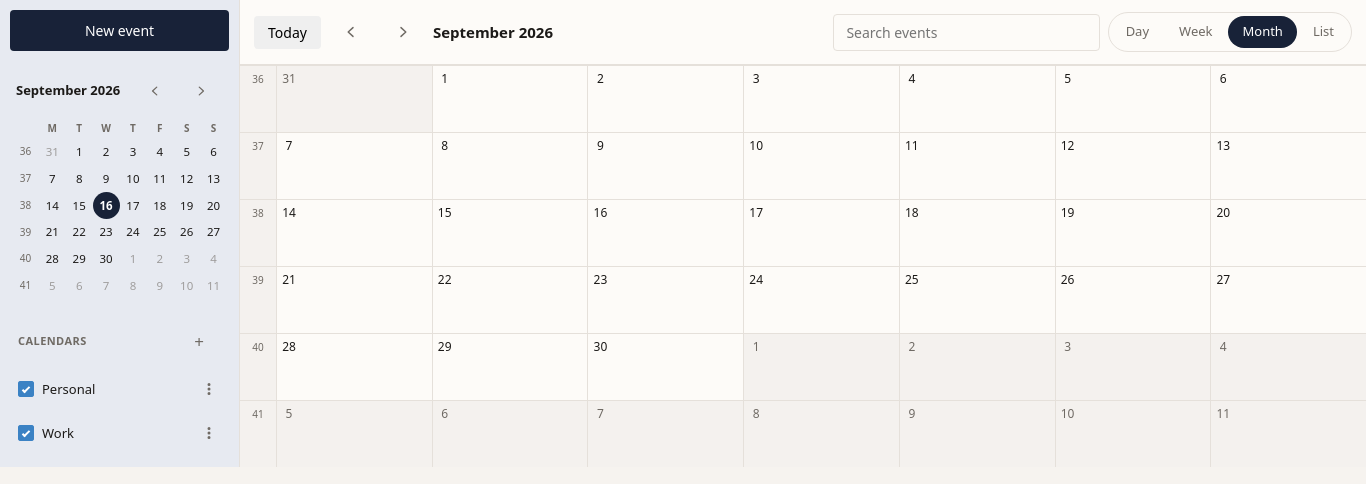
Test: CalendarLayout — navigating and loading › lands the keyboard on the anchor after a month step
Click the button named "Next period" at [403, 32], box x1=381 y1=10 x2=425 y2=54
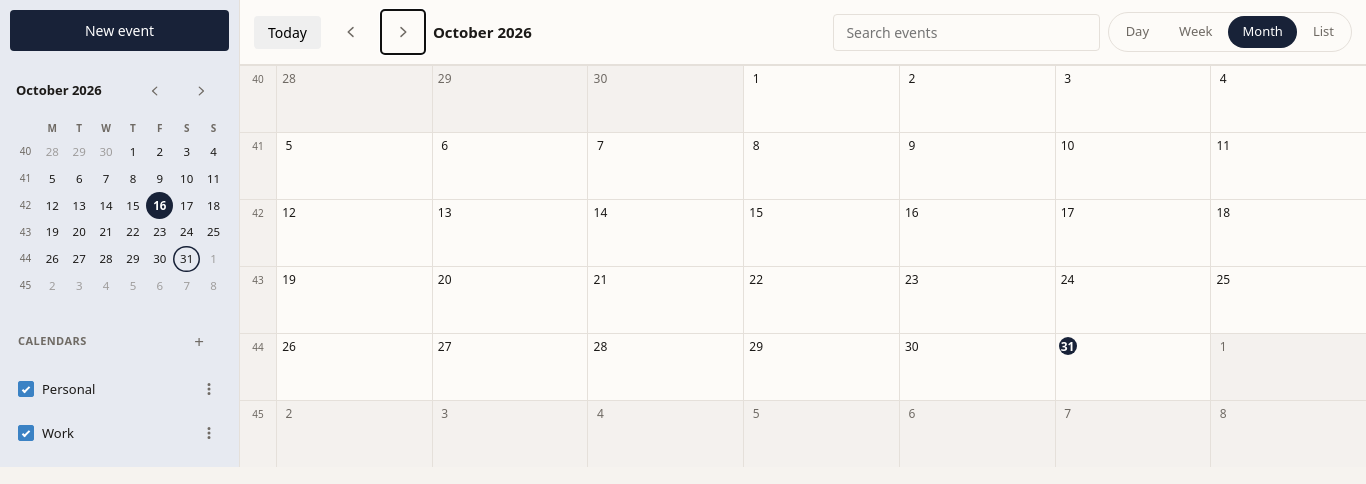
Expected: the text with class "month-day-number" reads "16", x1=905 y1=204 x2=919 y2=221
